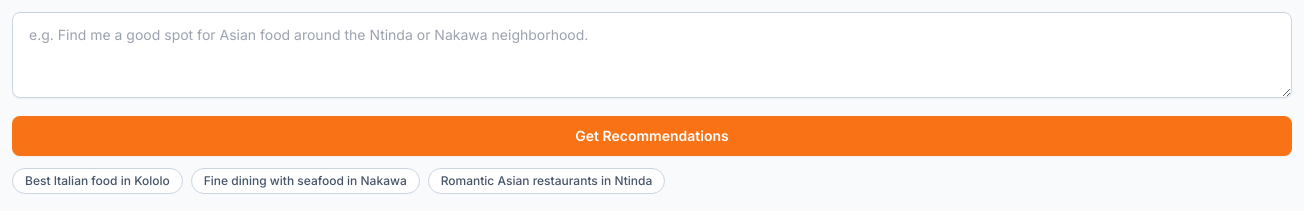
Test: QueryForm › clicking an example chip populates the textarea
The image size is (1304, 211).
Click the button "Best Italian food in Kololo". click: (97,181)
box: [12, 168, 183, 194]
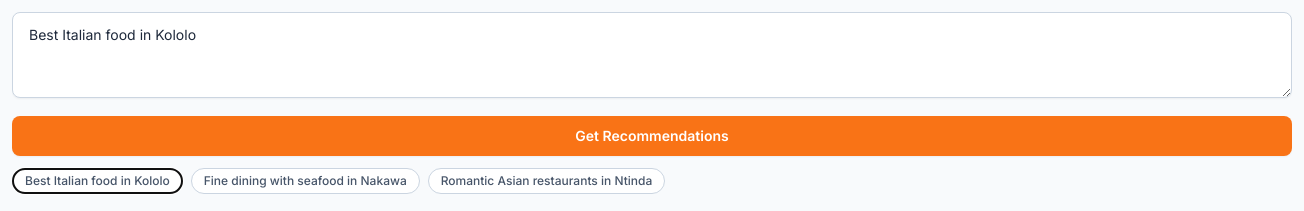
Now the text box holds "Best Italian food in Kololo", box [12, 12, 1292, 98]
